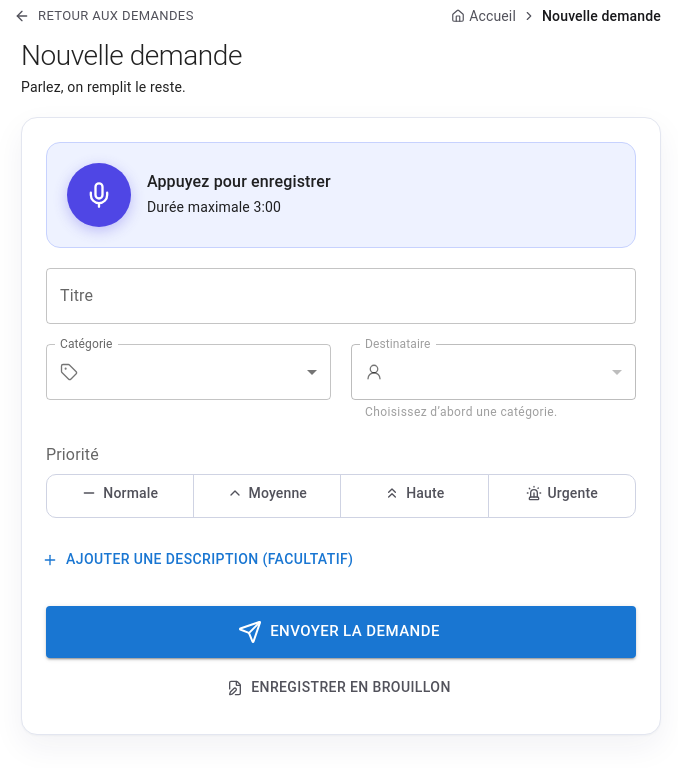
Test case: CreateRequestPage › en circuit B, n’affiche pas de destinataire et l’explique
The width and height of the screenshot is (678, 768).
Expected: the heading "Nouvelle demande" is shown, x1=21 y1=39 x2=242 y2=72
Click the 1st dropdown named "Catégorie" at (208,372), box x1=86 y1=344 x2=331 y2=400
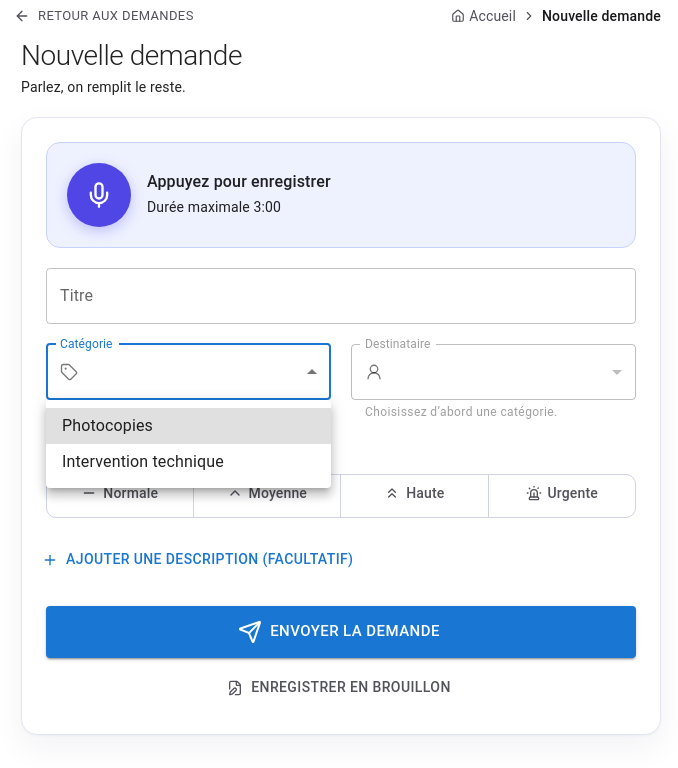
Click the option "Intervention technique" at (143,462), box x1=62 y1=452 x2=224 y2=471
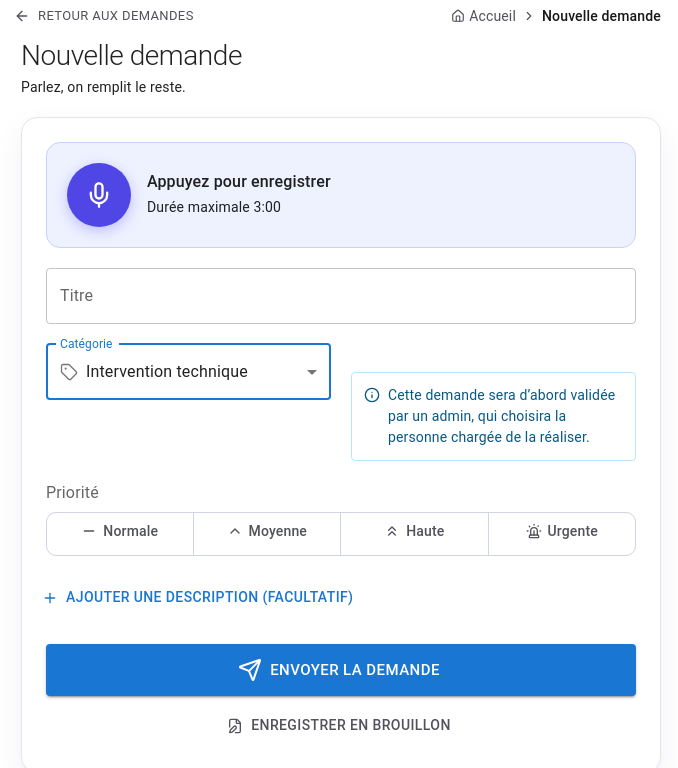
Now the text "Destinataire" is gone
Now the text "validée par un admin" is shown, box x1=388 y1=387 x2=615 y2=445
